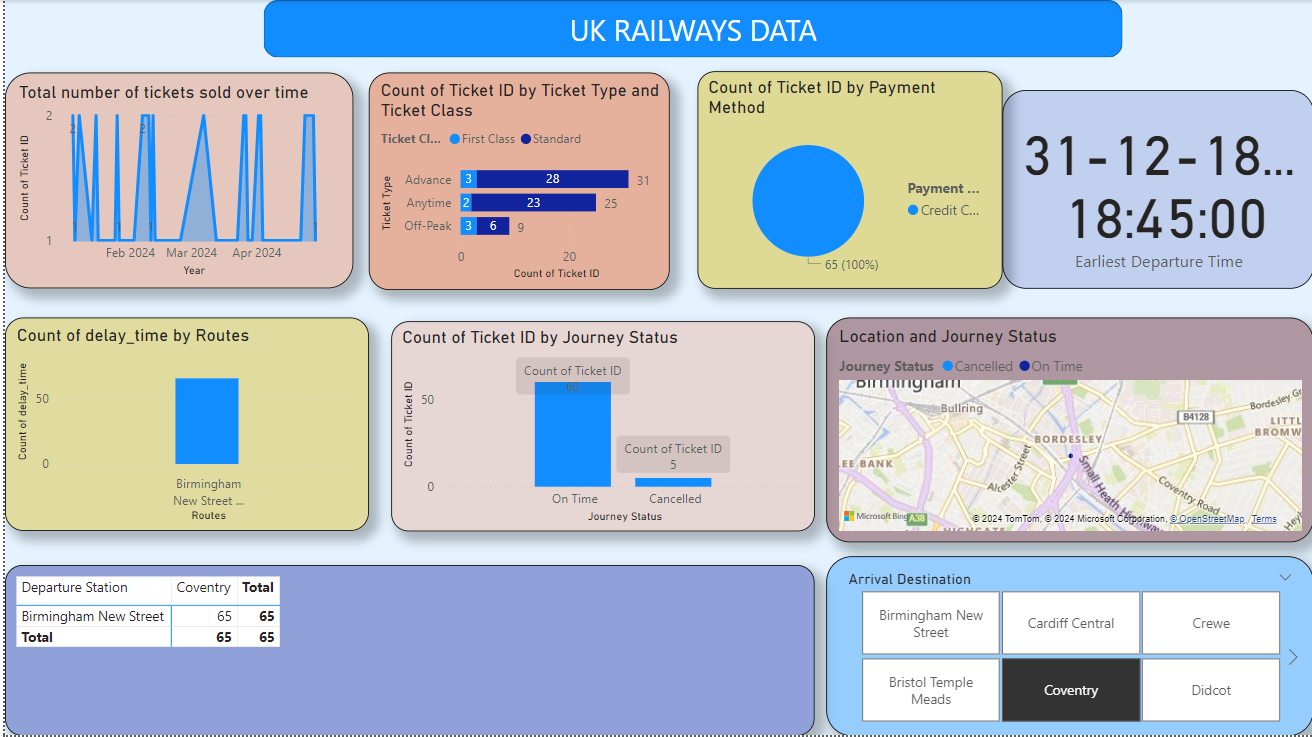

The dashboard page shown, as its layout file describes it:
{"tool":"powerbi","page":{"name":"Page 1","canvas":[1280,720],"ordinal":0},"visuals":[{"type":"lineChart","title":"Total number of tickets sold over time","fields":{"Y":["CountNonNull(in.Ticket ID)"],"Category":["in.Date of Purchase.Variation.Date Hierarchy.Year","in.Date of Purchase.Variation.Date Hierarchy.Quarter","in.Date of Purchase.Variation.Date Hierarchy.Month","in.Date of Purchase.Variation.Date Hierarchy.Day"]},"box":[0,70.9,341.2,211.6],"z":0},{"type":"pieChart","fields":{"Category":["in.Payment Method"],"Y":["CountNonNull(in.Ticket ID)"]},"box":[677.4,69.7,298.4,212.8],"z":1000},{"type":"barChart","fields":{"Category":["in.Ticket Type"],"Y":["CountNonNull(in.Ticket ID)"],"Series":["in.Ticket Class"]},"box":[355.8,70.9,294.7,212.8],"z":2000},{"type":"card","fields":{"Values":["Min(in.Departure Time)"]},"box":[975.8,88,304.5,194.4],"z":3000},{"type":"columnChart","fields":{"Category":["in.Routes"],"Y":["CountNonNull(in.delay_time)"]},"box":[0,310.6,355.8,209.1],"z":4000},{"type":"columnChart","fields":{"Y":["CountNonNull(in.Ticket ID)"],"Category":["in.Journey Status"]},"box":[377.9,314.3,414.5,205.4],"z":5000},{"type":"map","fields":{"Category":["in.Location"],"Series":["in.Journey Status"]},"box":[803.4,310.6,476.9,220.1],"z":6000},{"type":"pivotTable","fields":{"Rows":["in.Departure Station"],"Columns":["in.Arrival Destination"],"Values":["CountNonNull(in.Ticket ID)"]},"box":[0,552.7,792.4,167.5],"z":7000},{"type":"slicer","fields":{"Values":["in.Arrival Destination"]},"box":[803.4,544.2,476.9,176.1],"z":8000},{"type":"shape","box":[253.1,0,840.1,56.3],"z":8001}]}

Visuals, with their boxes in screenshot pixels (x1, y1, x2, y2), scaled from the page's 1280x720 canvas onto the 1312x737 screenshot:
"Total number of tickets sold over time" lineChart: left=0, top=73, right=350, bottom=289
pieChart - in.Payment Method x CountNonNull(in.Ticket ID): left=694, top=71, right=1000, bottom=289
barChart - in.Ticket Type x CountNonNull(in.Ticket ID): left=365, top=73, right=667, bottom=290
card - Min(in.Departure Time): left=1000, top=90, right=1311, bottom=289
columnChart - in.Routes x CountNonNull(in.delay_time): left=0, top=318, right=365, bottom=532
columnChart - CountNonNull(in.Ticket ID) x in.Journey Status: left=387, top=322, right=812, bottom=532
map - in.Location x in.Journey Status: left=823, top=318, right=1311, bottom=543
pivotTable - in.Departure Station x in.Arrival Destination: left=0, top=566, right=812, bottom=736
slicer - in.Arrival Destination: left=823, top=557, right=1311, bottom=736
shape: left=259, top=0, right=1121, bottom=58
